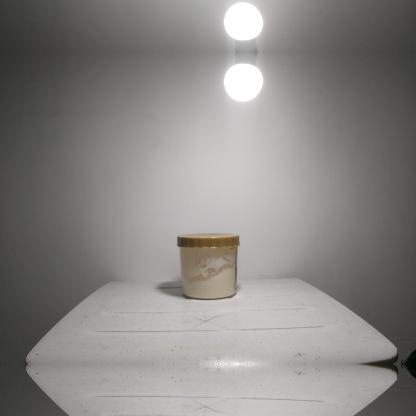Lady-s-Choice: (174, 231, 242, 301)
